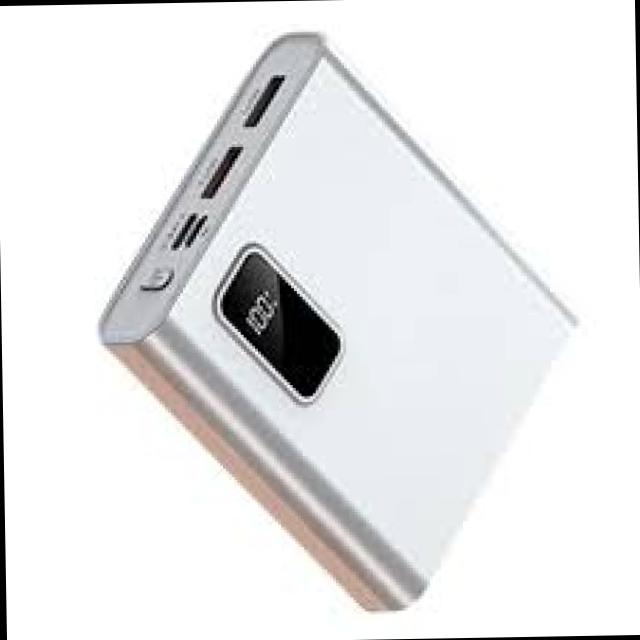power_bank: (90, 19, 584, 619)
